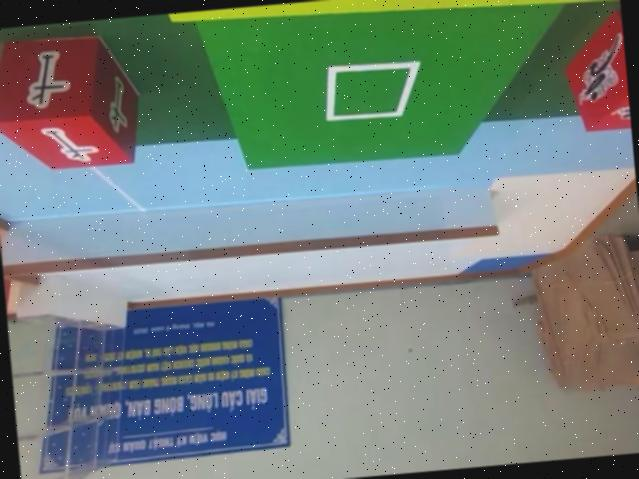R1: (557, 3, 631, 132)
R2 Real: (0, 25, 144, 175)
